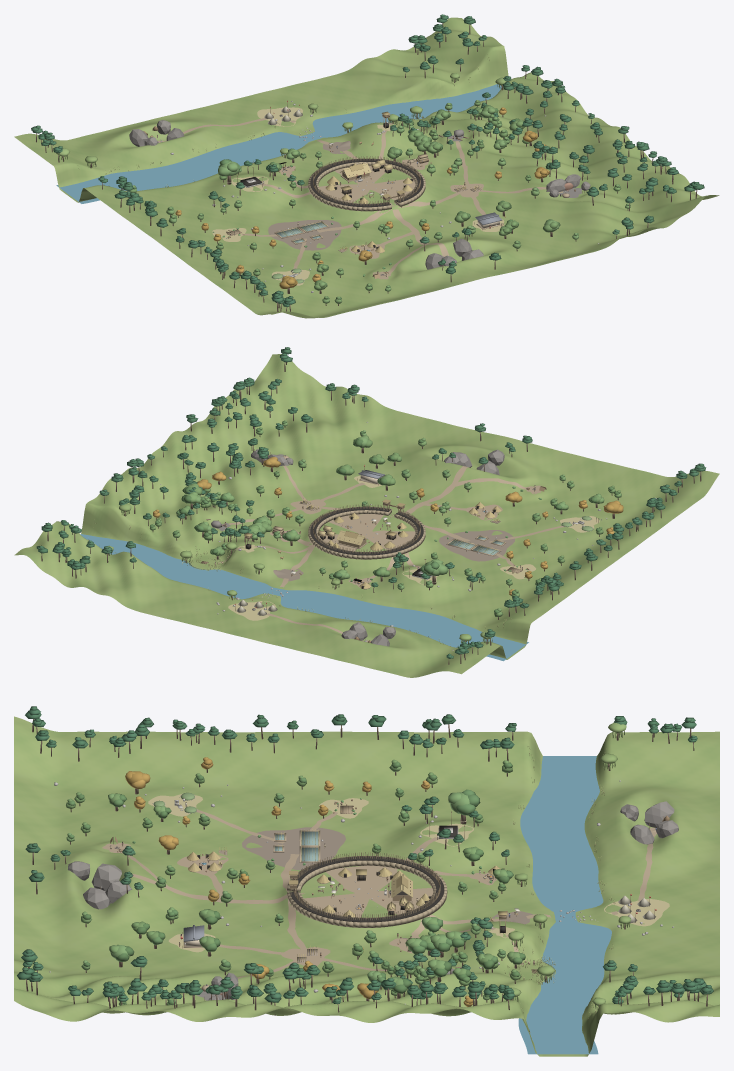
File: gojoseon.glb
3 renders of one model, top to bottom at view 1: azimuth 30°, elevation 25°; view 2: azimuth 150°, elevation 25°; view 3: azimuth 270°, elevation 25°, orthographic. The views are drawn at different scales.
Visible parts, largest first — view 1: ground, static_pine, river, static_dirt, static_leaf2, static_bark, static_mud, static_dry, static_rampart, static_leaf_autumn, static_leaf, static_wood (+1 smaller); view 2: ground, static_pine, river, static_dirt, static_leaf2, static_leaf, static_bark, static_mud, static_dry, static_rampart, static_leaf_autumn, static_wood (+2 smaller); view 3: ground, river, static_pine, static_dirt, static_leaf2, static_leaf, static_bark, static_dry, static_rampart, static_mud, static_leaf_autumn, static_wood (+4 smaller).
Part boxes in pixels (x1,y1,x2,y2): ground: (14, 17, 719, 318); static_pine: (31, 14, 704, 307); river: (56, 84, 501, 203); static_dirt: (158, 118, 563, 279); static_leaf2: (129, 100, 630, 303); static_bark: (35, 23, 697, 313); static_mud: (268, 141, 350, 252); static_dry: (103, 66, 504, 285); static_rampart: (308, 158, 425, 211); static_leaf_autumn: (175, 107, 549, 288); static_leaf: (133, 100, 630, 299); static_wood: (313, 156, 420, 252); ground: (14, 354, 719, 677); static_pine: (36, 347, 706, 658); river: (80, 534, 528, 661); static_dirt: (220, 465, 565, 642); static_leaf2: (150, 420, 621, 616); static_leaf: (150, 421, 619, 613); static_bark: (41, 362, 701, 664); static_mud: (273, 517, 514, 581); static_dry: (88, 475, 599, 646); static_rampart: (279, 506, 425, 559); static_leaf_autumn: (153, 456, 623, 595); static_wood: (313, 499, 495, 588); ground: (14, 716, 719, 1056); river: (518, 756, 611, 1054); static_pine: (17, 706, 713, 1004); static_dirt: (102, 809, 656, 978); static_leaf2: (66, 759, 521, 1005); static_leaf: (67, 761, 525, 1004); static_bark: (26, 719, 707, 1015); static_dry: (148, 749, 669, 1032); static_rampart: (287, 856, 447, 927); static_mud: (218, 827, 532, 938); static_leaf_autumn: (125, 757, 472, 1006); static_wood: (200, 852, 504, 920).
Size of the model in its own units: 260 by 34.36 by 260.
